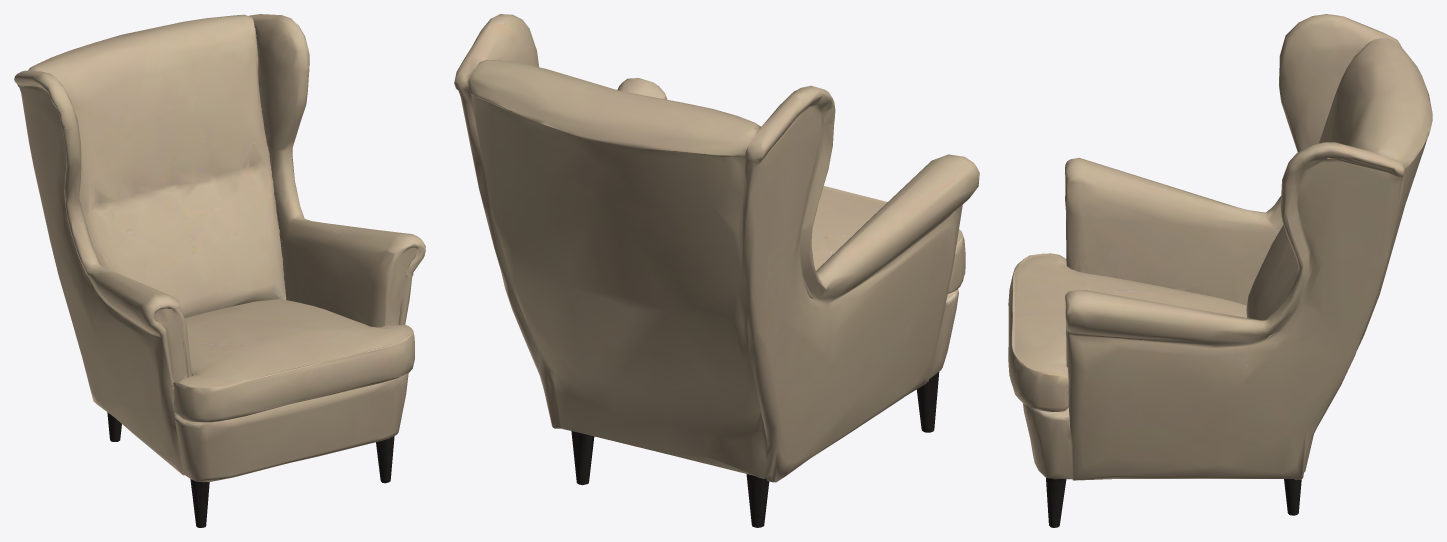
File: strandmon-sillon-orejero-tommaboda-beige-intenso.glb
3 renders of one model, left to right at view 1: azimuth 30°, elevation 25°; view 2: azimuth 150°, elevation 25°; view 3: azimuth 270°, elevation 25°, orthographic. The views are drawn at different scales.
Visible parts, largest first — view 1: ASY_ART_50613163_S01_NV01; view 2: ASY_ART_50613163_S01_NV01; view 3: ASY_ART_50613163_S01_NV01.
Boxes of the visible parts, left/top/right/bottom form: ASY_ART_50613163_S01_NV01: left=14, top=14, right=425, bottom=527; ASY_ART_50613163_S01_NV01: left=454, top=14, right=979, bottom=527; ASY_ART_50613163_S01_NV01: left=1008, top=14, right=1432, bottom=527.
Bounding box in the file's own units: 0.8137 × 1.01 × 0.9784.
1 material, 1 textured.
